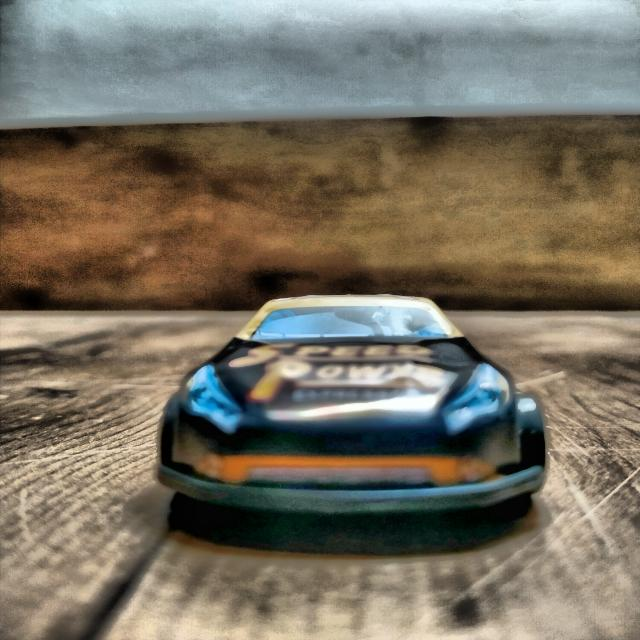Car: (158, 295, 545, 513)
